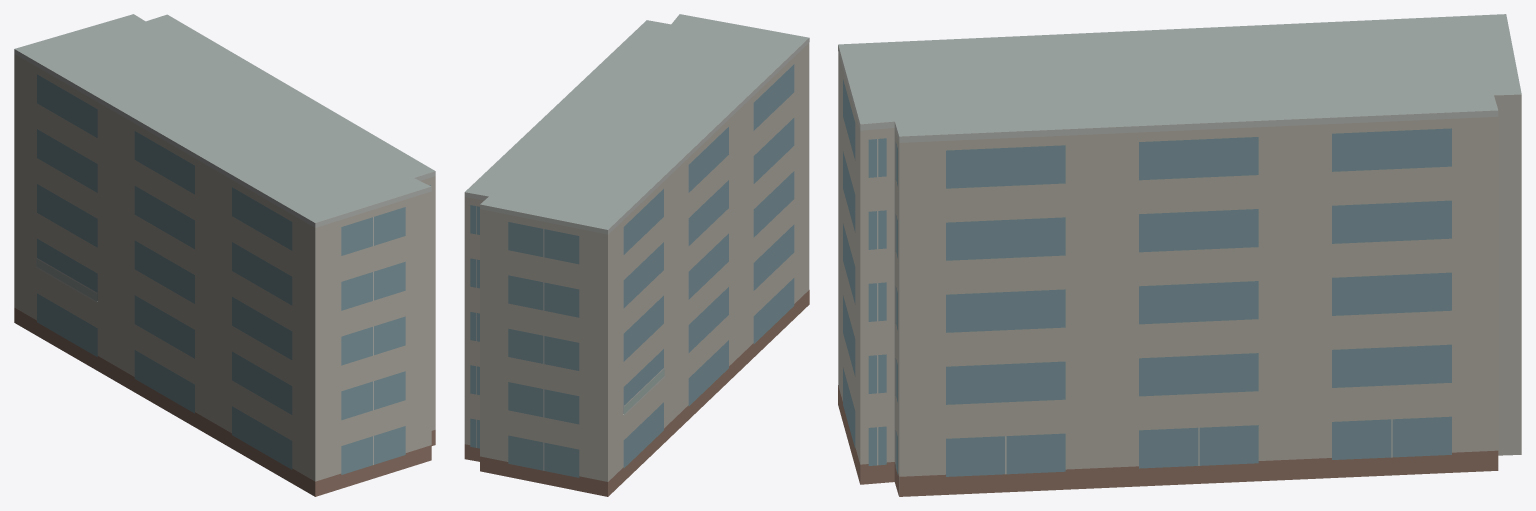
The model's file is survey-upis-32997232.glb.
The picture shows the model from 3 angles, left to right: view 1: azimuth 30°, elevation 25°; view 2: azimuth 150°, elevation 25°; view 3: azimuth 270°, elevation 25°; orthographic projection. The views are drawn at different scales.
Parts seen in each view (by area): view 1: survey-upis-32997232.tmp; view 2: survey-upis-32997232.tmp; view 3: survey-upis-32997232.tmp.
Boxes of the visible parts, left/top/right/bottom form: survey-upis-32997232.tmp: left=14, top=14, right=435, bottom=496; survey-upis-32997232.tmp: left=464, top=14, right=809, bottom=496; survey-upis-32997232.tmp: left=838, top=14, right=1521, bottom=496.
Bounding box in the file's own units: 10.15 × 13.9 × 23.91.
